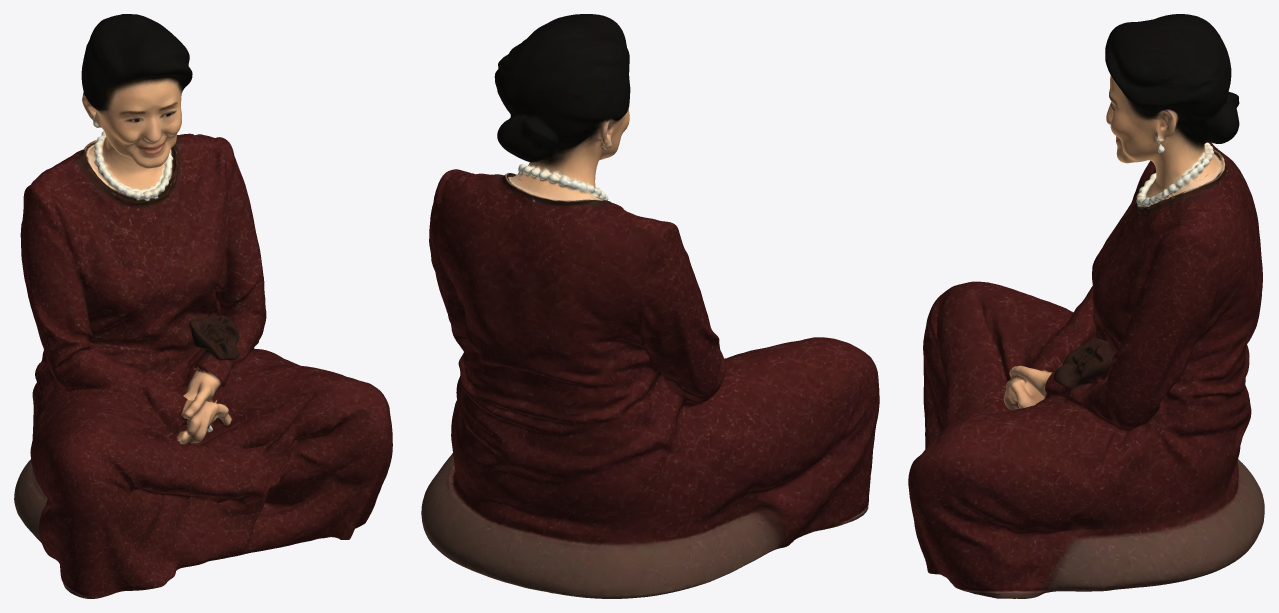
3 renders of one model, left to right at view 1: azimuth 30°, elevation 25°; view 2: azimuth 150°, elevation 25°; view 3: azimuth 270°, elevation 25°, orthographic. The views are drawn at different scales.
Parts seen in each view (by area): view 1: mesh_0; view 2: mesh_0; view 3: mesh_0.
Part boxes in pixels (x1,y1,x2,y2): mesh_0: [14, 14, 392, 598]; mesh_0: [421, 14, 879, 598]; mesh_0: [908, 14, 1264, 598].
Bounding box in the file's own units: 1.4 × 1.9 × 1.23.
Materials: 1 (1 with a texture image).
